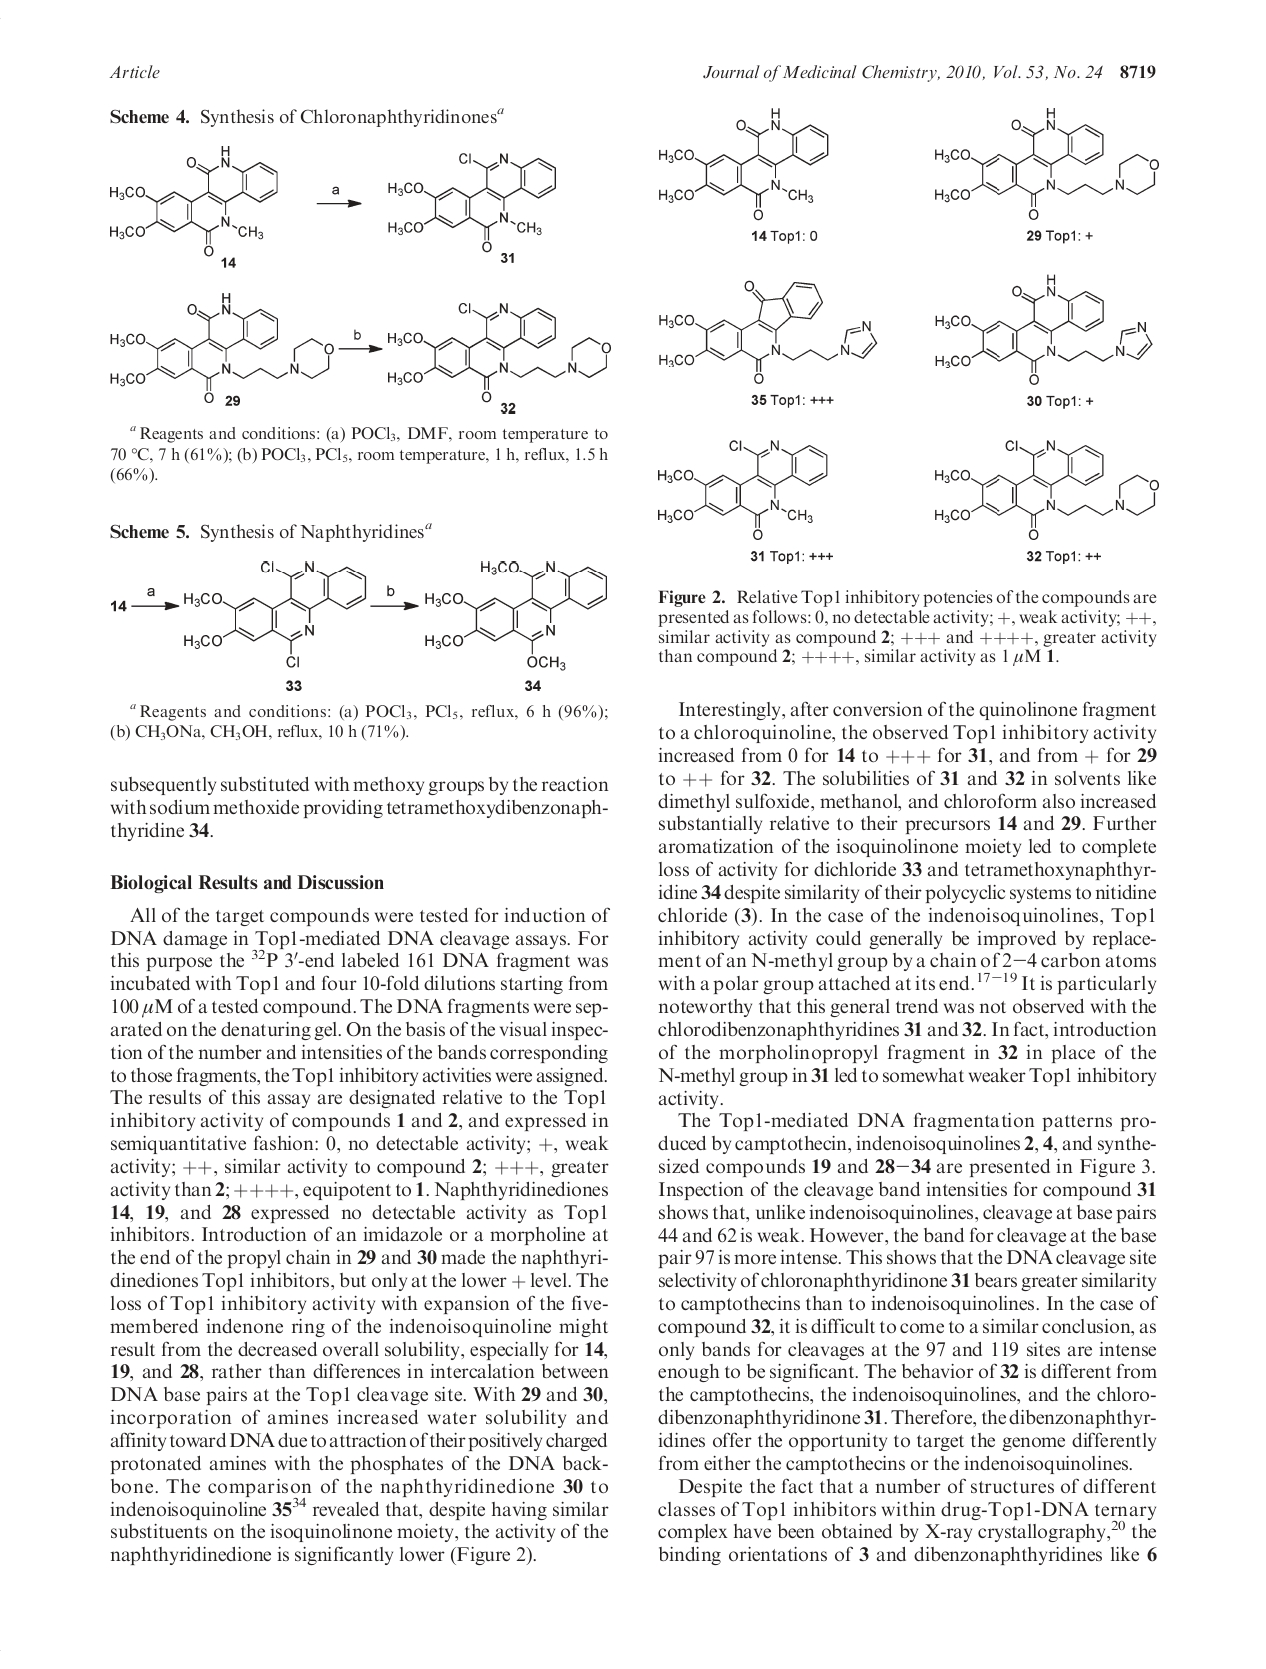exist_molecular: (934, 105, 1161, 223), (108, 290, 335, 406), (934, 273, 1156, 388), (384, 298, 614, 406), (934, 438, 1161, 543), (660, 277, 880, 384), (423, 559, 609, 673), (181, 559, 368, 668), (656, 108, 831, 222), (106, 144, 281, 258), (656, 435, 830, 543), (386, 152, 559, 254)
